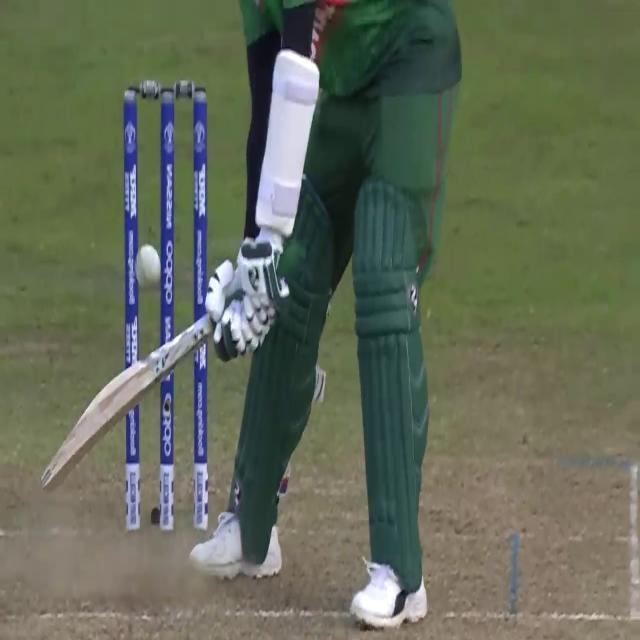ball: (133, 238, 166, 294)
